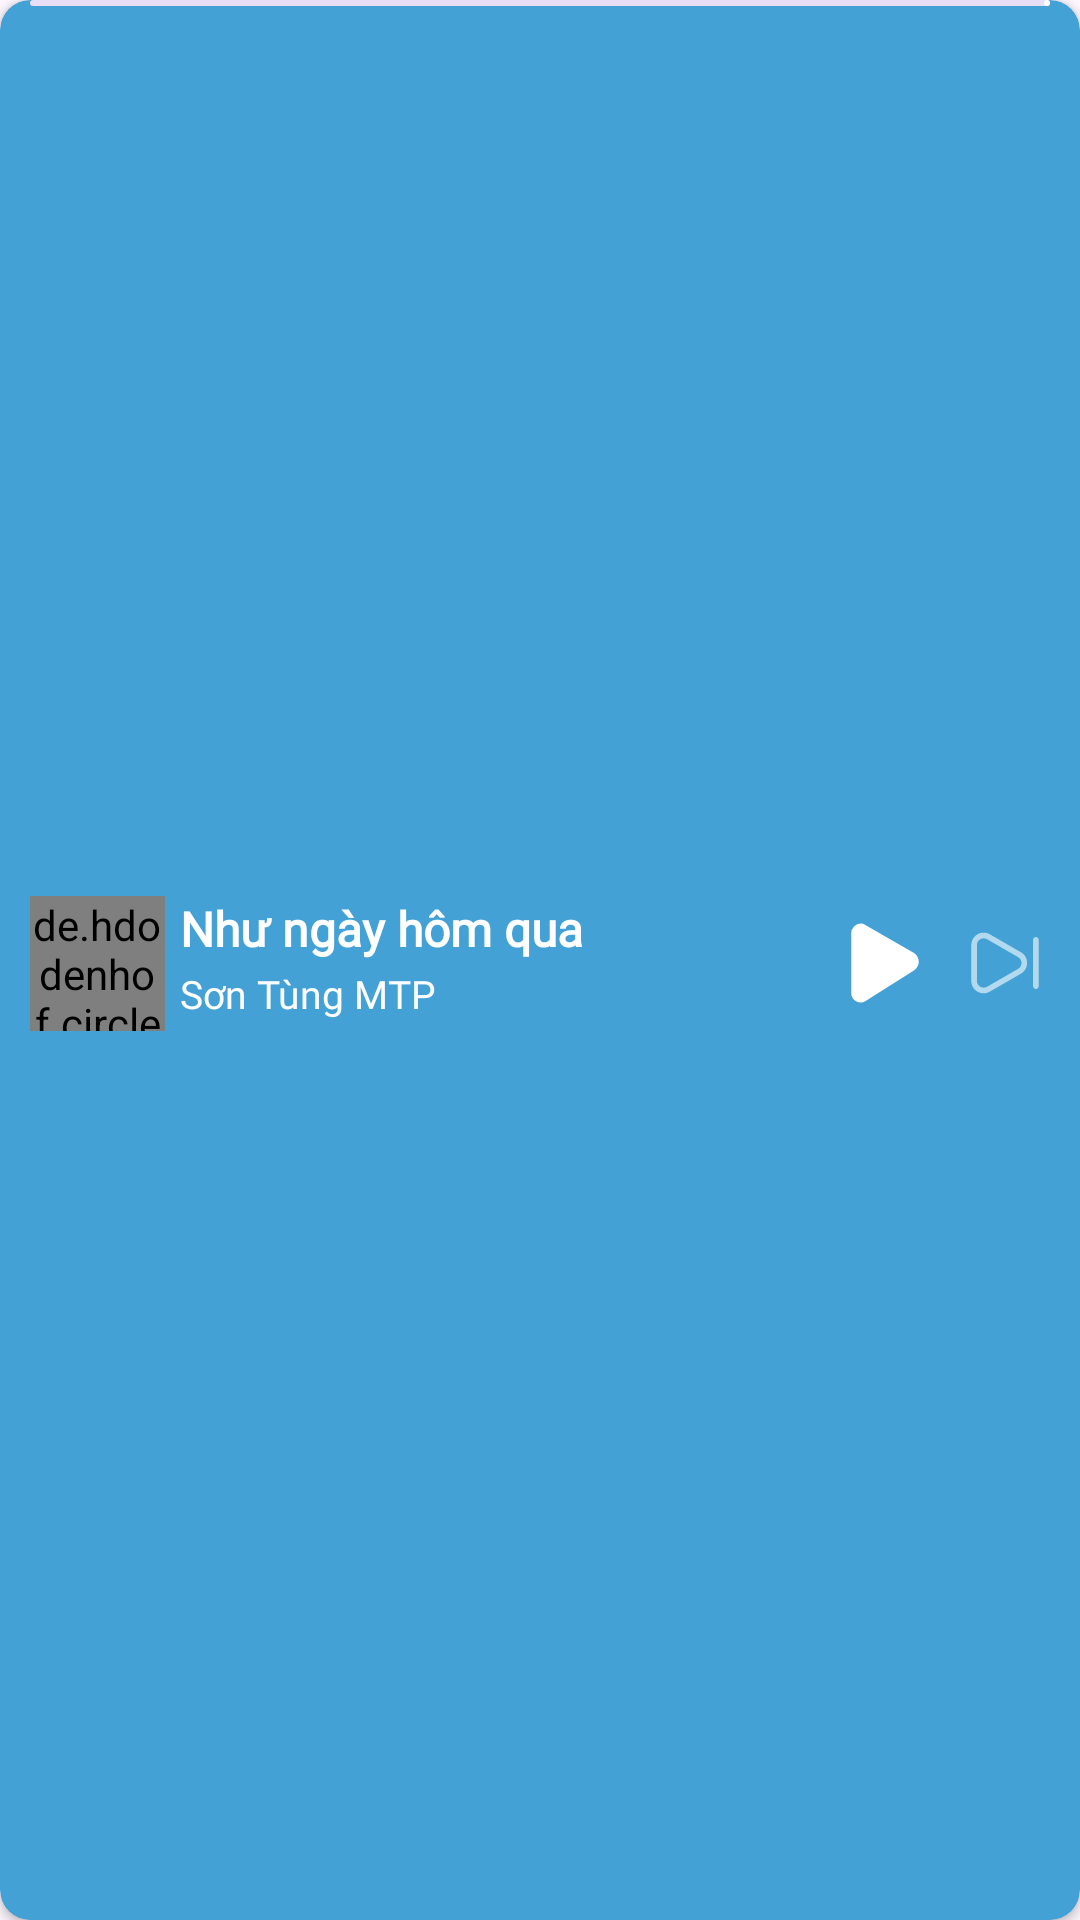

Named icons in this screenshot (1080*1920) and their bounding boxes, [left=x1, top=y1, right=x2, bottom=y2]:
next music: [left=971, top=932, right=1039, bottom=994]
play now: [left=851, top=923, right=919, bottom=1003]
